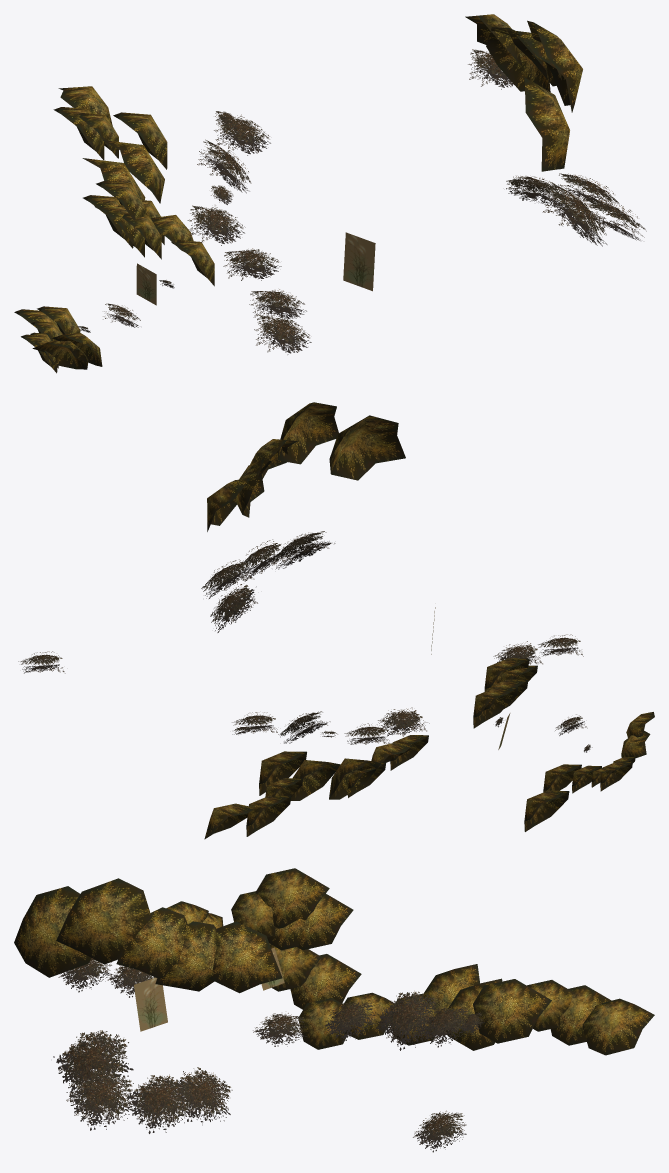
Rendered from menu_billboard_alphaleaves.fbx.
3 renders of one model, top to bottom at view 1: azimuth 30°, elevation 25°; view 2: azimuth 150°, elevation 25°; view 3: azimuth 270°, elevation 25°, orthographic. The views are drawn at different scales.
Visible parts, largest first — view 1: menu_billboard_alphaleaves-0; view 2: menu_billboard_alphaleaves-0; view 3: menu_billboard_alphaleaves-0.
Part boxes in pixels (x1,y1,x2,y2): menu_billboard_alphaleaves-0: [14, 14, 646, 373]; menu_billboard_alphaleaves-0: [18, 402, 654, 839]; menu_billboard_alphaleaves-0: [14, 868, 654, 1152].
Bounding box in the file's own units: 12.47 × 6.32 × 12.35.
